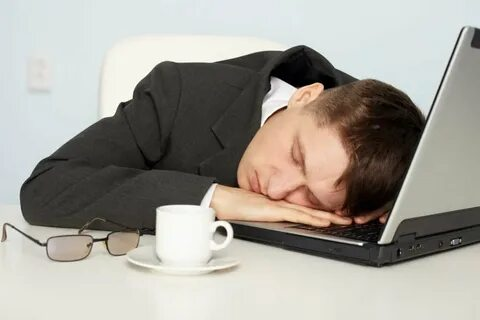sleep: (20, 46, 417, 245)
